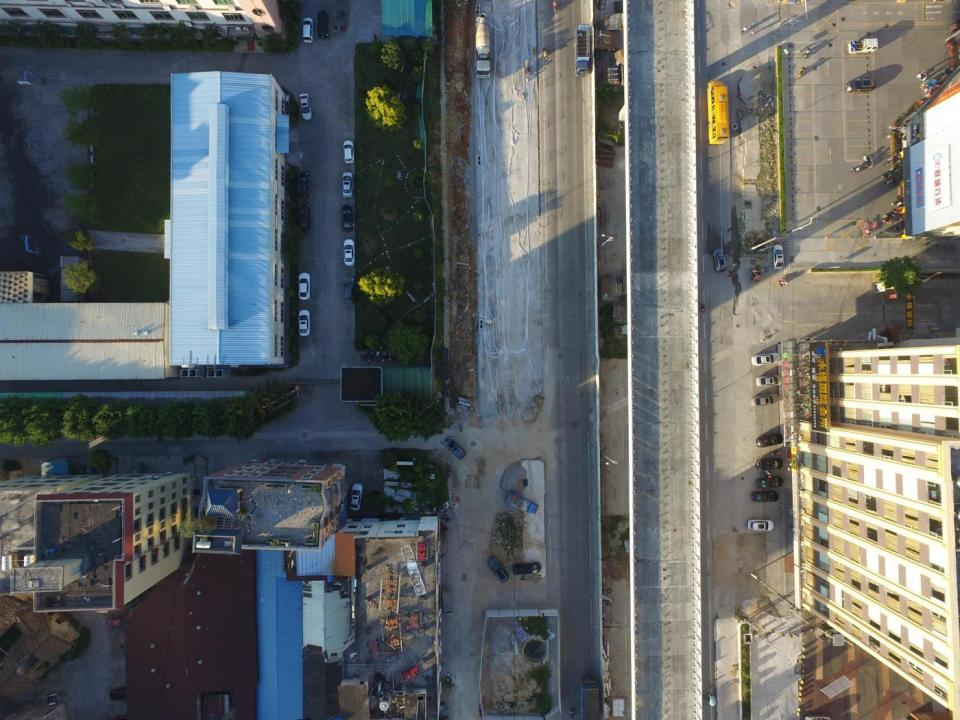bus: (706, 78, 730, 145)
car: (108, 685, 140, 704), (488, 556, 508, 584), (444, 436, 466, 461), (107, 613, 136, 630), (846, 77, 876, 92), (296, 309, 312, 336), (756, 432, 783, 448), (298, 91, 312, 121), (751, 393, 780, 407), (751, 352, 780, 366), (297, 272, 311, 300), (340, 204, 354, 231), (316, 9, 329, 38), (296, 171, 309, 199), (298, 203, 311, 231), (756, 475, 784, 488), (350, 481, 362, 511), (771, 244, 784, 271), (301, 17, 314, 43), (342, 239, 355, 265), (748, 519, 774, 532), (712, 247, 725, 273), (751, 490, 779, 502), (342, 277, 354, 304), (756, 374, 782, 386), (757, 458, 784, 469), (342, 171, 353, 197), (342, 140, 354, 162)
truck: (474, 12, 492, 79), (573, 22, 590, 78), (504, 491, 540, 515), (580, 675, 601, 716), (848, 38, 878, 54), (442, 586, 454, 615)
van: (512, 561, 542, 575)
